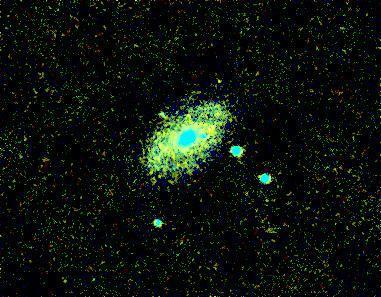star: (173, 103, 203, 133)
